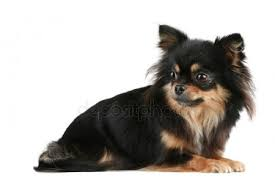chihuahua: (17, 21, 261, 170)
